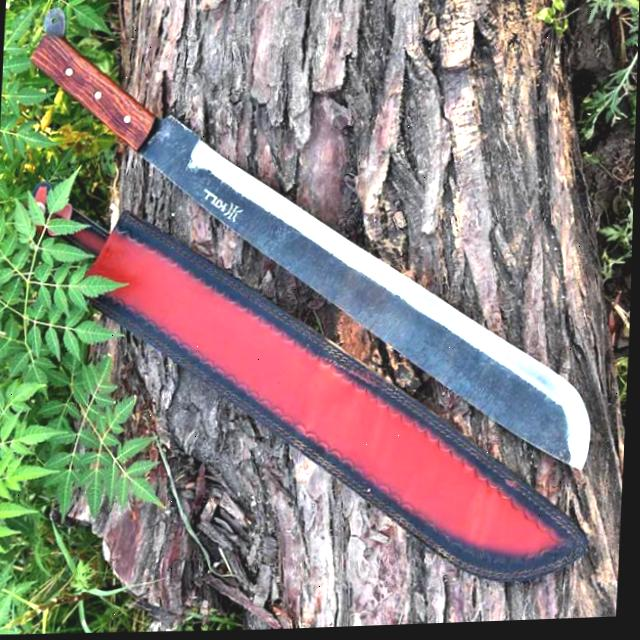long knife: (3, 4, 630, 495)
